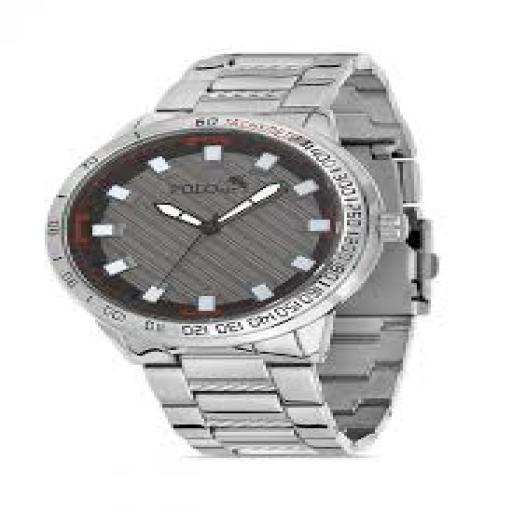KolSaati: (28, 28, 480, 478)
